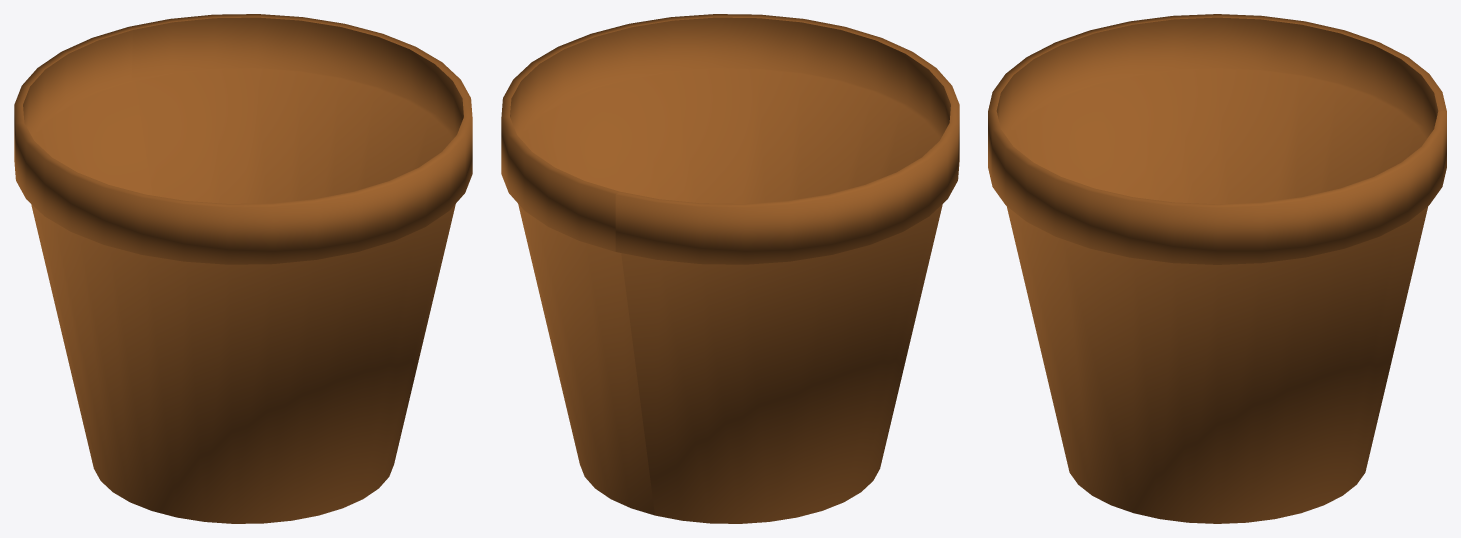
File: pot-normal-dirt.glb
The picture shows the model from 3 angles, left to right: view 1: azimuth 30°, elevation 25°; view 2: azimuth 150°, elevation 25°; view 3: azimuth 270°, elevation 25°; orthographic projection.
Parts seen in each view (by area): view 1: Cylinder; view 2: Cylinder; view 3: Cylinder.
Boxes of the visible parts, bbox=[...] form: Cylinder: bbox=[14, 14, 472, 523]; Cylinder: bbox=[501, 14, 959, 523]; Cylinder: bbox=[988, 14, 1446, 523].
Size of the model in its own units: 0.2835 by 0.2382 by 0.2835.
